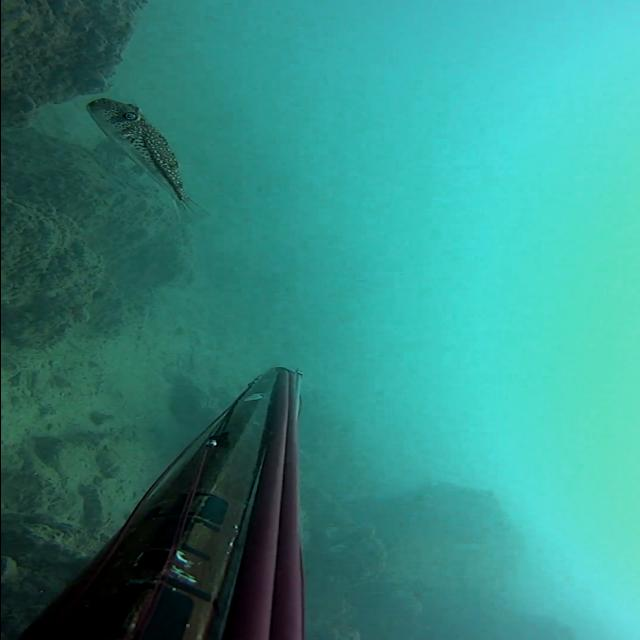Balon Baligi: (83, 96, 209, 220)
